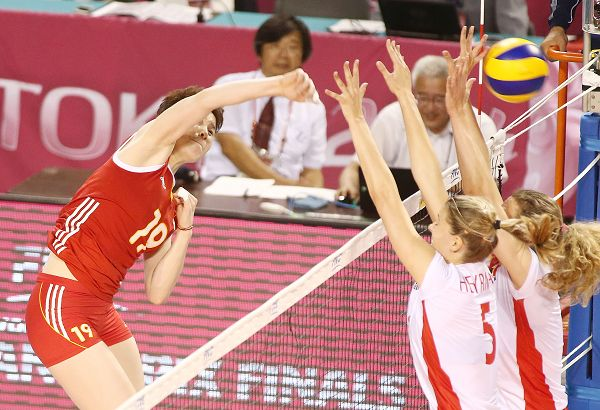ball: (482, 38, 551, 104)
